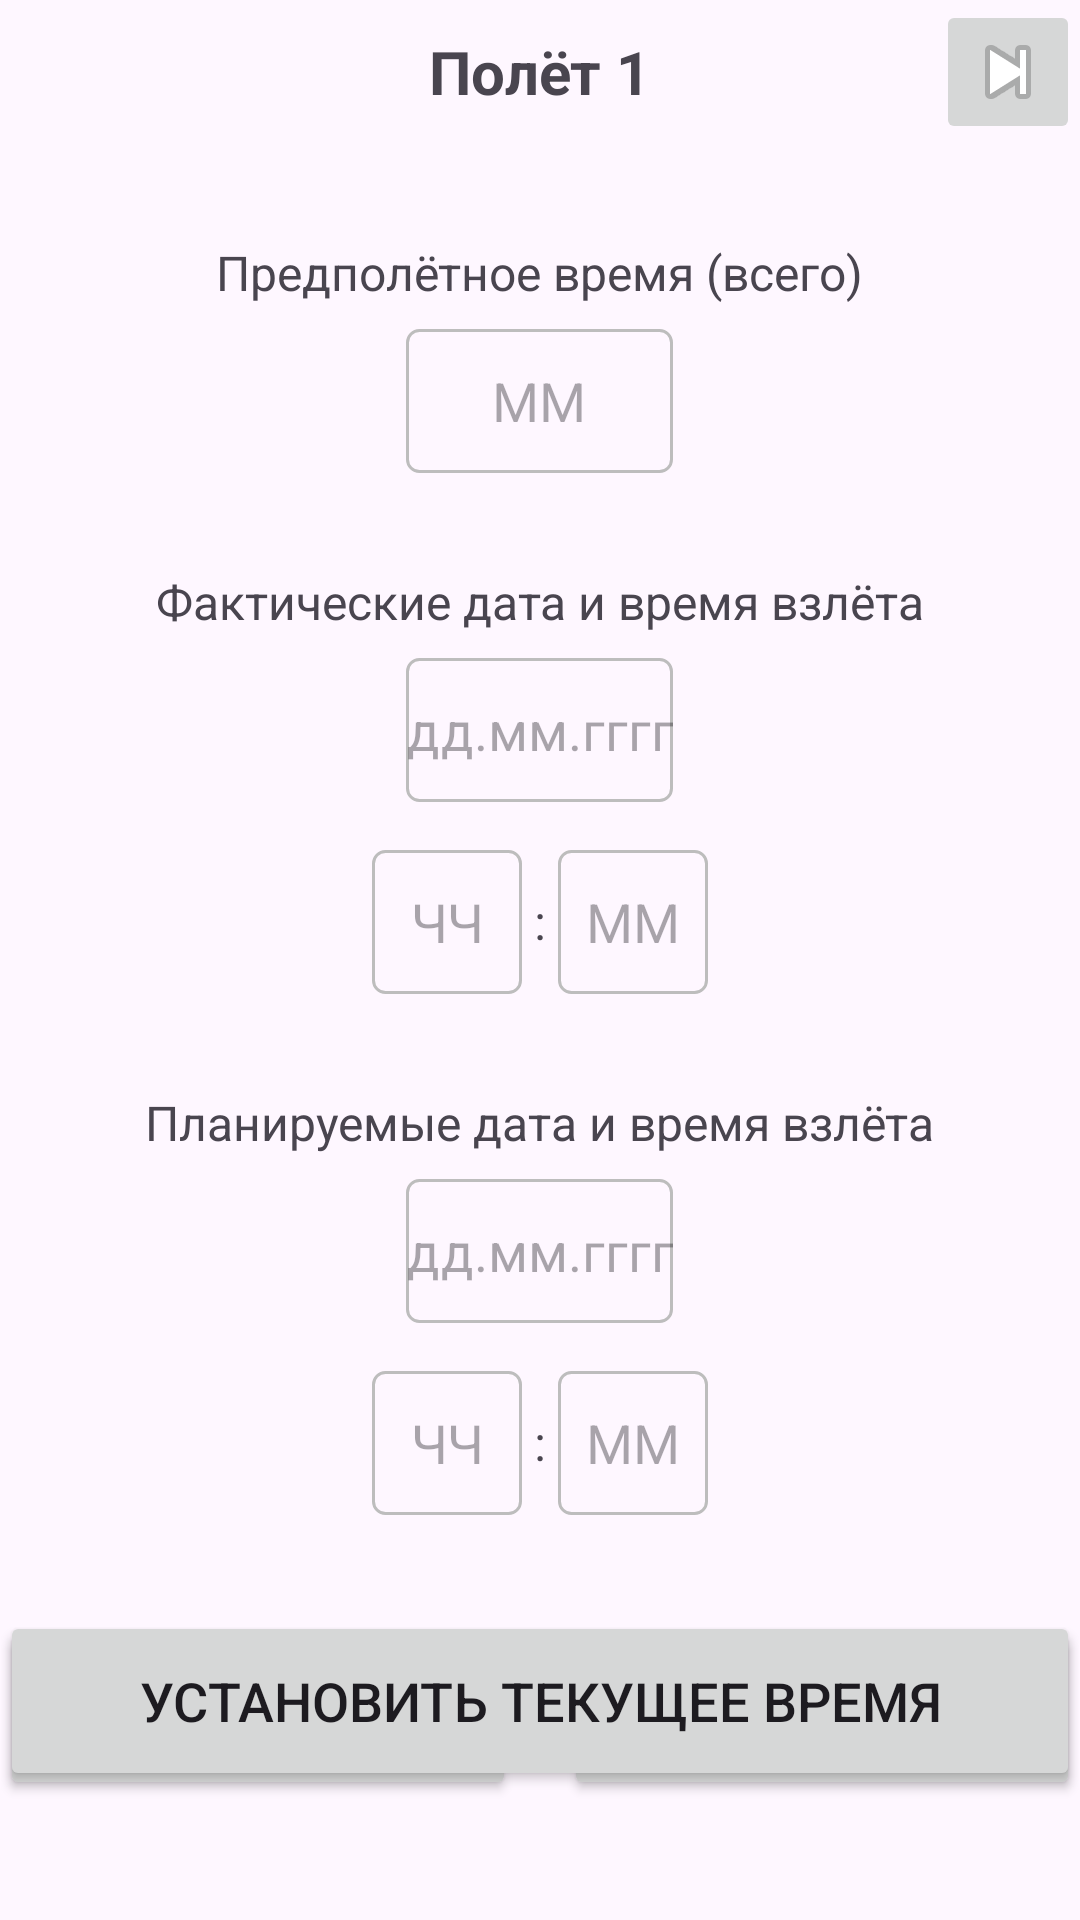

Named icons in this screenshot (1080 x 1920) and their bounding boxes, (x1, y1, x2, y2):
Вперёд: (948, 18, 1068, 126)
